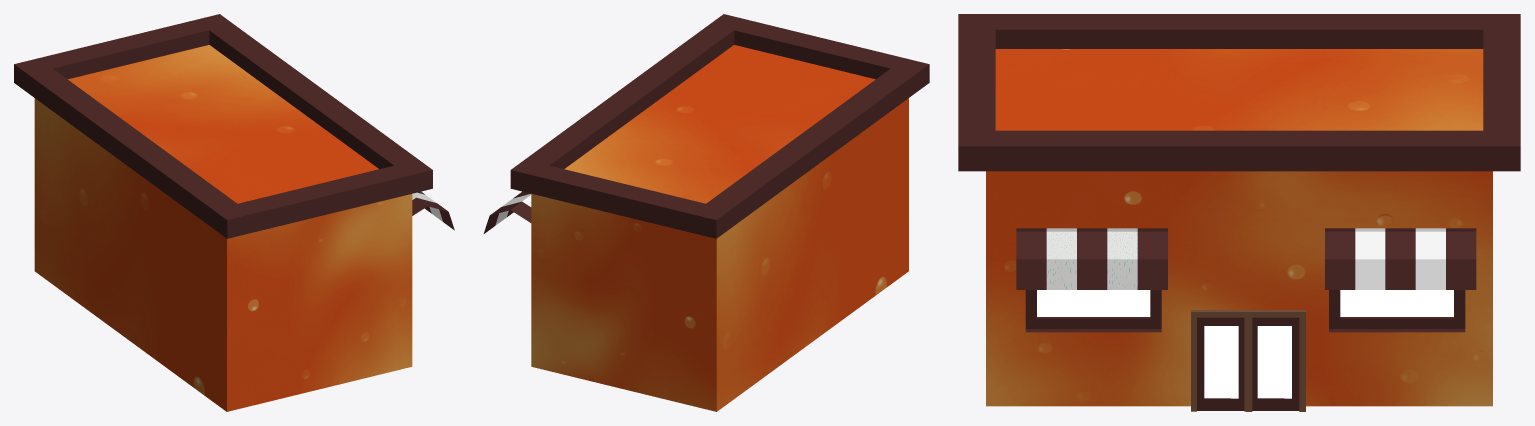
Rendered from Cola house.fbx.
The picture shows the model from 3 angles, left to right: view 1: azimuth 30°, elevation 25°; view 2: azimuth 150°, elevation 25°; view 3: azimuth 270°, elevation 25°; orthographic projection. The views are drawn at different scales.
Parts seen in each view (by area): view 1: Cube.066; view 2: Cube.066; view 3: Cube.066.
Part boxes in pixels (<box>): Cube.066: <box>14,14,454,411</box>; Cube.066: <box>483,14,929,411</box>; Cube.066: <box>958,14,1520,411</box>.
Size of the model in its own units: 1426 by 1115 by 2108.
7 materials, 2 textured.
